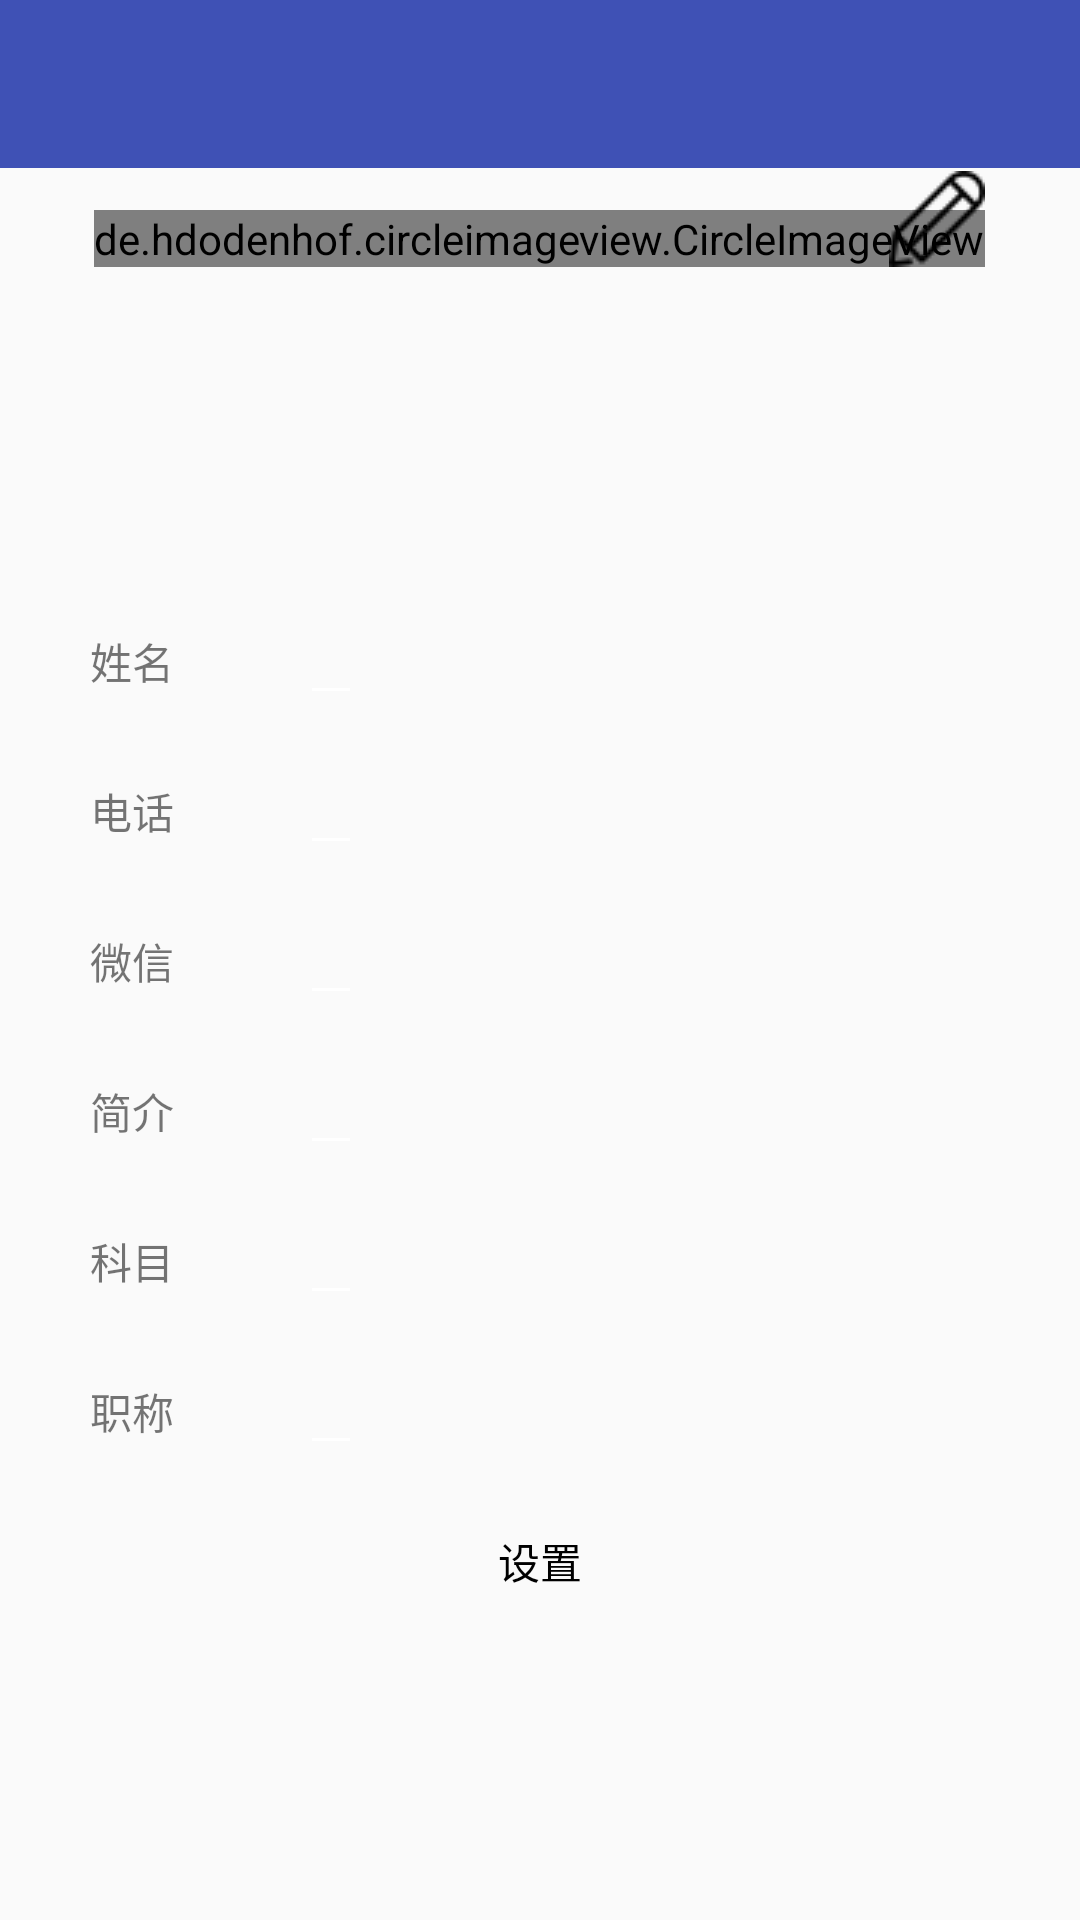

Where icons sit on this 1080x1920 app screen, as rect(x1, y1, x2, y2):
edit: rect(889, 171, 985, 267)
